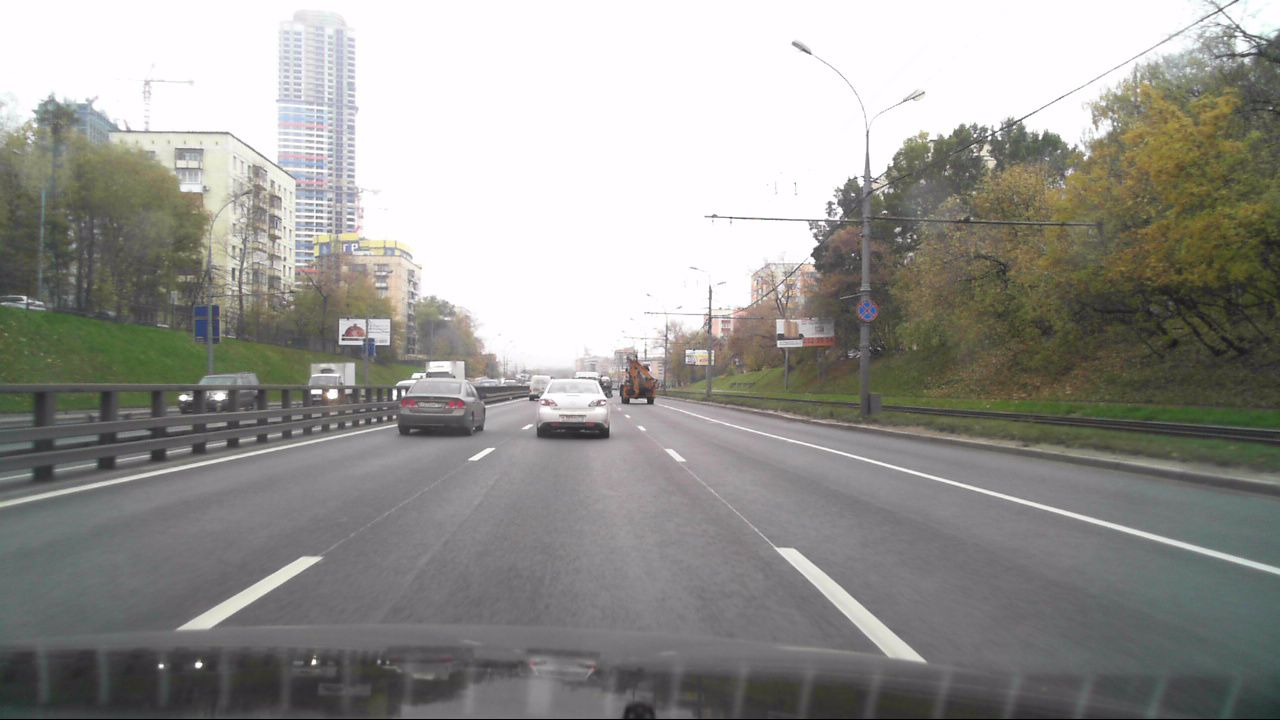No Parking: (856, 300, 877, 321)
